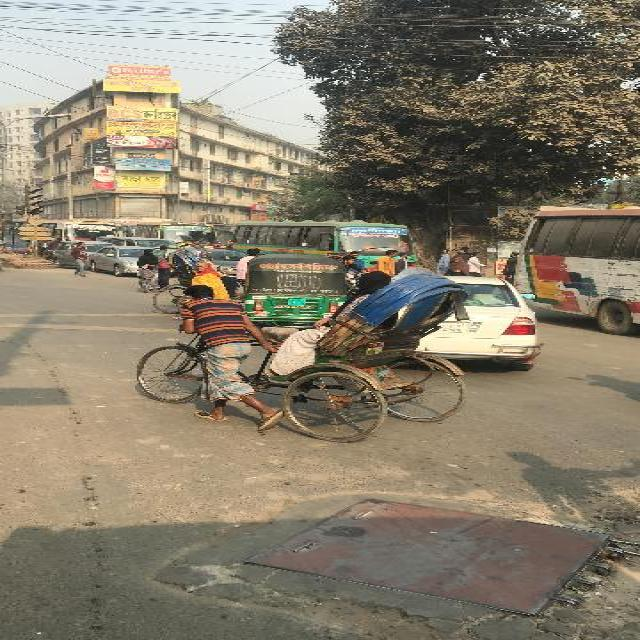13: (136, 273, 468, 442), (152, 250, 243, 312)
17: (241, 252, 346, 326)
19: (96, 236, 178, 248)
5: (414, 276, 539, 374), (86, 244, 166, 276), (51, 240, 116, 268)
Truck: (511, 206, 637, 334), (229, 218, 415, 268), (1, 218, 116, 240), (129, 224, 219, 242)
